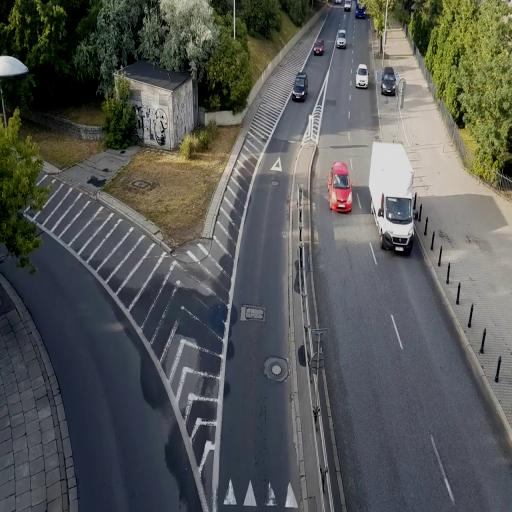vehicle: (368, 140, 416, 255), (328, 161, 353, 214), (380, 67, 398, 96), (292, 74, 308, 100), (355, 64, 368, 88), (336, 28, 347, 49), (314, 41, 324, 56)
